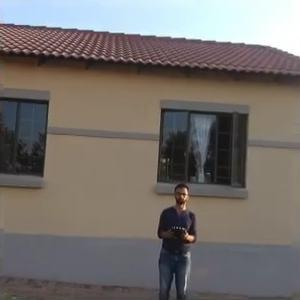follow: (151, 179, 199, 298)
